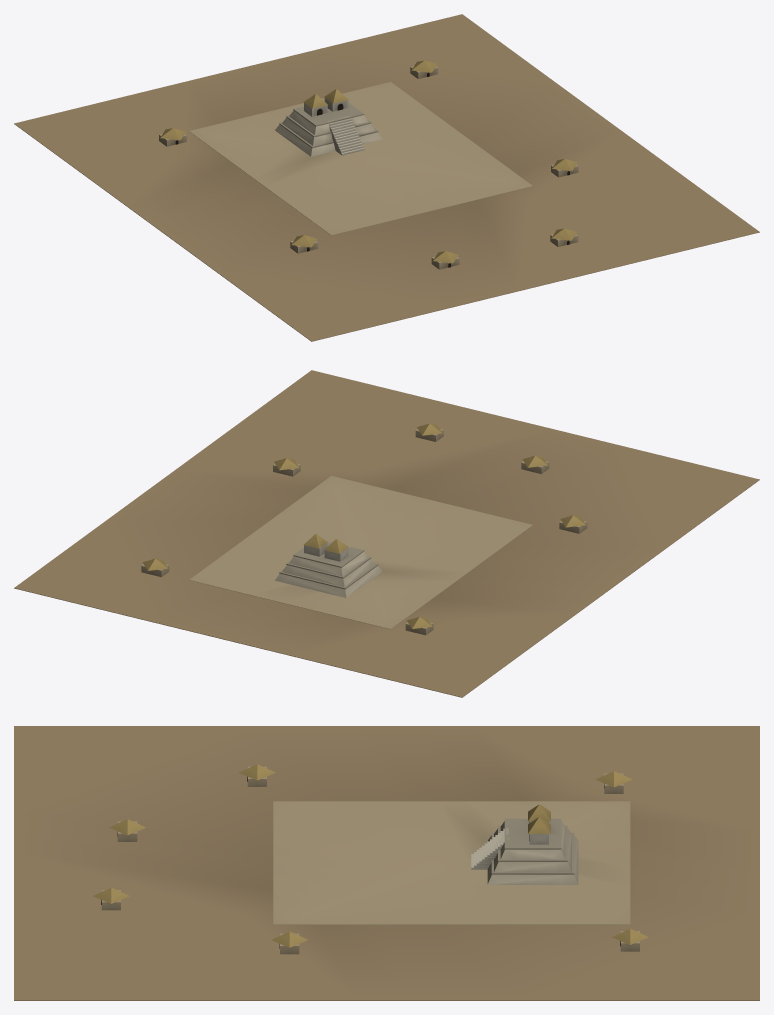
The model's file is tlatelolco-temple-early.glb.
3 views of the same model, one above another, from view 1: azimuth 30°, elevation 25°; view 2: azimuth 150°, elevation 25°; view 3: azimuth 270°, elevation 25° (orthographic). The views are drawn at different scales.
Parts seen in each view (by area): view 1: p0_ground, p1_temple, p2_shrines; view 2: p0_ground, p1_temple, p2_shrines; view 3: p0_ground, p1_temple, p2_shrines.
Boxes of the visible parts, <box> form: p0_ground: <box>14,14,759,341</box>; p1_temple: <box>275,102,382,156</box>; p2_shrines: <box>159,60,578,269</box>; p0_ground: <box>14,370,759,697</box>; p1_temple: <box>275,541,382,597</box>; p2_shrines: <box>141,423,587,635</box>; p0_ground: <box>14,726,759,1000</box>; p1_temple: <box>471,818,578,884</box>; p2_shrines: <box>93,764,648,954</box>.
Size of the model in its own units: 200 by 17.9 by 230.
